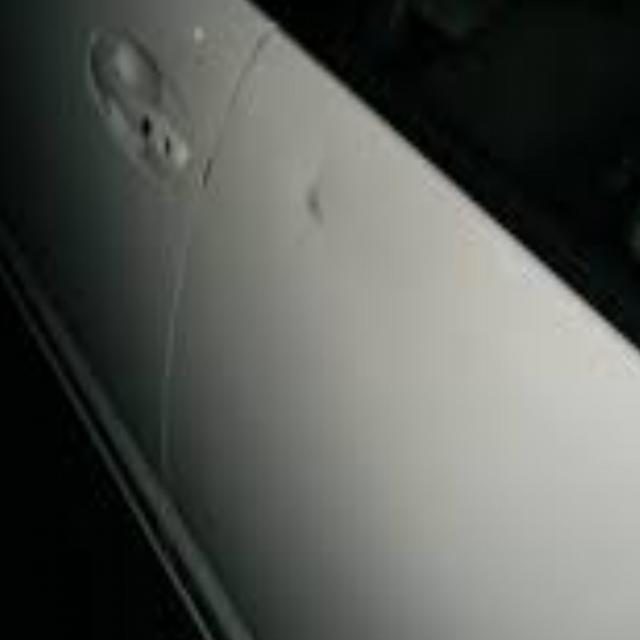dents: (279, 153, 373, 260)
